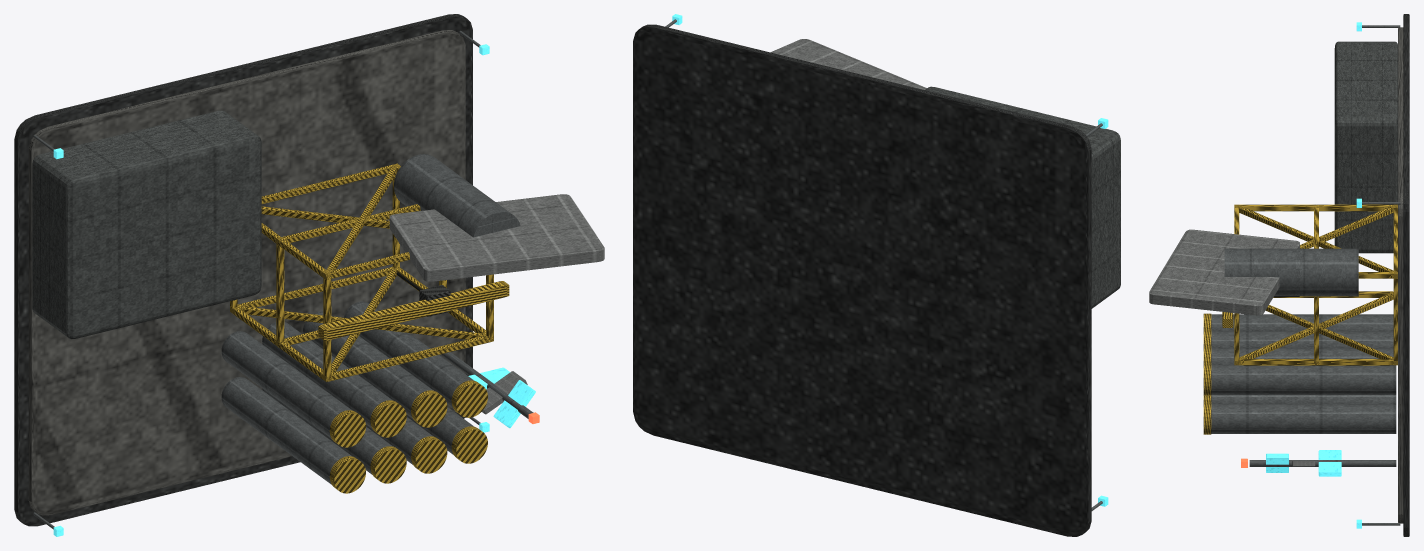
The model's file is b-34-abm-battery-lod0.glb.
The picture shows the model from 3 angles, left to right: view 1: azimuth 30°, elevation 25°; view 2: azimuth 150°, elevation 25°; view 3: azimuth 270°, elevation 25°; orthographic projection. The views are drawn at different scales.
Visible parts, largest first — view 1: foundation_inner_pad, bunker_main, foundation, primary_tracking_radar, radar_pedestal, missile_01_tube, missile_05_tube, reload_crane_bridge, missile_08_tube, missile_06_tube, missile_07_tube, reload_crane_brace_a_-1.5 (+25 smaller); view 2: foundation, bunker_main, primary_tracking_radar; view 3: bunker_main, primary_tracking_radar, missile_04_tube, missile_08_tube, radar_pedestal, foundation, foundation_inner_pad, missile_05_tube, missile_06_tube, missile_07_tube, missile_03_tube, reload_crane_brace_a_-1.5 (+12 smaller).
Part boxes in pixels (x1=…): foundation_inner_pad: x1=28, y1=30, x2=465, y2=515; bunker_main: x1=32, y1=110, x2=261, y2=339; foundation: x1=14, y1=14, x2=472, y2=526; primary_tracking_radar: x1=389, y1=194, x2=604, y2=281; radar_pedestal: x1=394, y1=154, x2=520, y2=237; missile_01_tube: x1=221, y1=377, x2=352, y2=484; missile_05_tube: x1=221, y1=331, x2=352, y2=438; reload_crane_bridge: x1=318, y1=281, x2=509, y2=340; missile_08_tube: x1=344, y1=301, x2=474, y2=408; missile_06_tube: x1=262, y1=322, x2=392, y2=428; missile_07_tube: x1=302, y1=311, x2=433, y2=418; reload_crane_brace_a_-1.5: x1=238, y1=306, x2=485, y2=339; foundation: x1=633, y1=24, x2=1091, y2=536; bunker_main: x1=925, y1=86, x2=1120, y2=308; primary_tracking_radar: x1=771, y1=39, x2=926, y2=89; bunker_main: x1=1334, y1=41, x2=1397, y2=253; primary_tracking_radar: x1=1149, y1=229, x2=1299, y2=315; missile_04_tube: x1=1211, y1=404, x2=1396, y2=433; missile_08_tube: x1=1211, y1=365, x2=1396, y2=394; radar_pedestal: x1=1224, y1=248, x2=1358, y2=296; foundation: x1=1403, y1=14, x2=1409, y2=536; foundation_inner_pad: x1=1398, y1=27, x2=1403, y2=523; missile_05_tube: x1=1211, y1=314, x2=1393, y2=331; missile_06_tube: x1=1211, y1=331, x2=1393, y2=347; missile_07_tube: x1=1211, y1=348, x2=1393, y2=364; missile_03_tube: x1=1211, y1=395, x2=1396, y2=403; reload_crane_brace_a_-1.5: x1=1239, y1=293, x2=1393, y2=358.
Size of what is drawn, in the model's own units: 14.34 by 12 by 8.16.
Materials: 10 (10 with a texture image).
